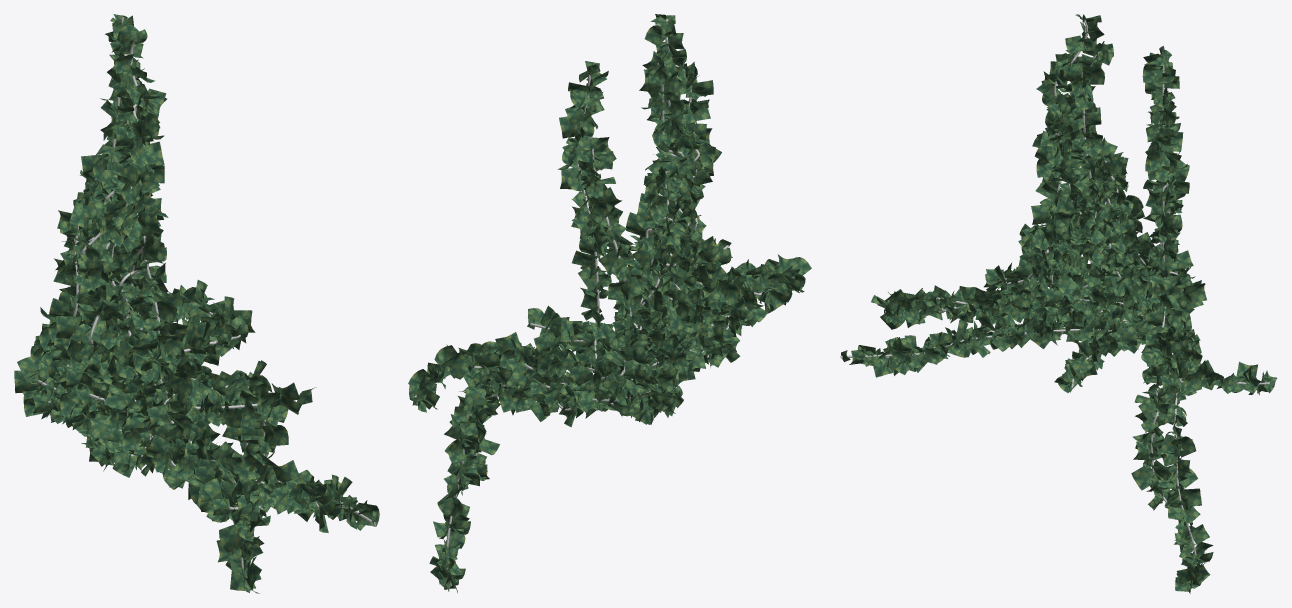
The model's file is SM_Ivy_09.fbx.
3 views of the same model, side by side, from view 1: azimuth 30°, elevation 25°; view 2: azimuth 150°, elevation 25°; view 3: azimuth 270°, elevation 25° (orthographic). The views are drawn at different scales.
Visible parts, largest first — view 1: SM_Ivy_09_LOD0; view 2: SM_Ivy_09_LOD0; view 3: SM_Ivy_09_LOD0.
Part boxes in pixels (left/top/right/bottom): SM_Ivy_09_LOD0: left=14, top=14, right=379, bottom=593; SM_Ivy_09_LOD0: left=408, top=14, right=811, bottom=593; SM_Ivy_09_LOD0: left=840, top=14, right=1276, bottom=593.
Size of the model in its own units: 205 by 381 by 489.
Materials: 2 (1 with a texture image).
